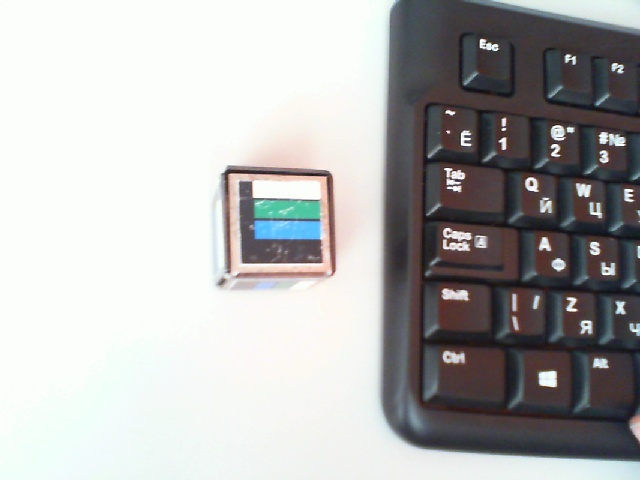square: (238, 180, 325, 266)
